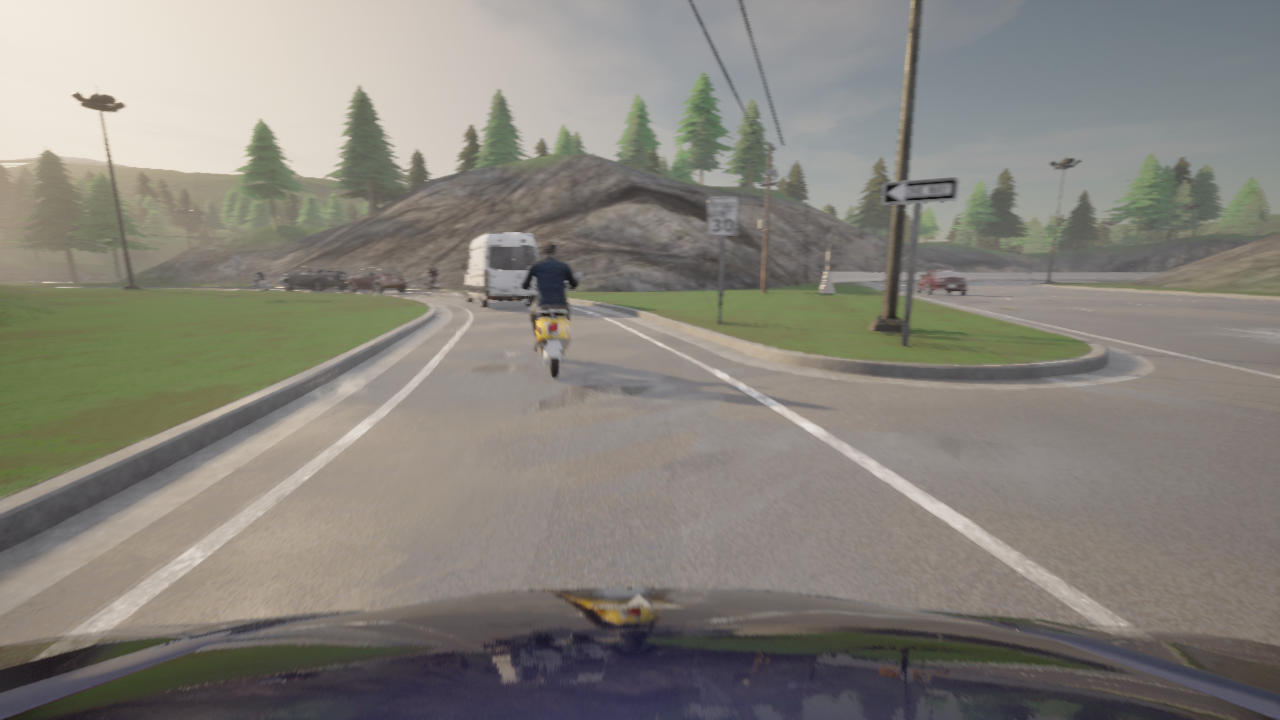cyclist: (0, 588, 1279, 719), (515, 271, 582, 378), (460, 232, 538, 307), (280, 264, 348, 291), (345, 267, 406, 293), (916, 269, 967, 295), (251, 275, 269, 290), (425, 281, 439, 296)
